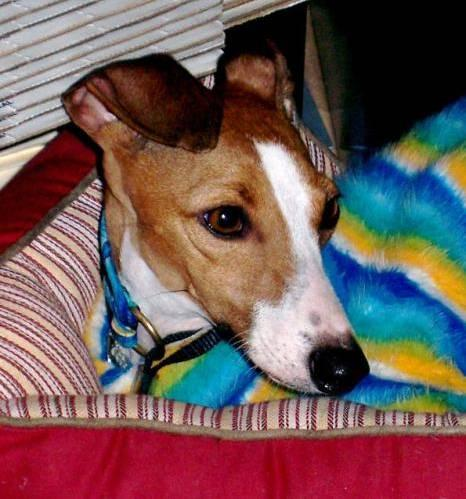dog: (63, 43, 367, 393)
